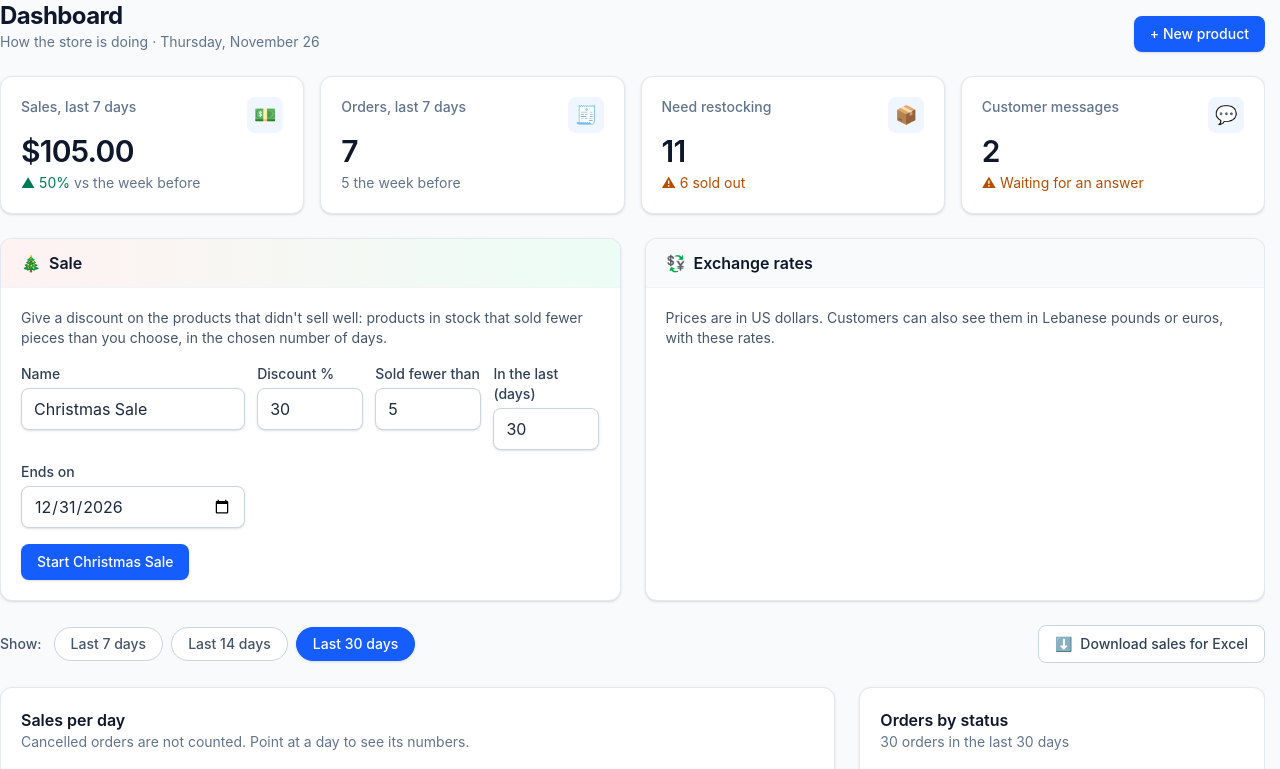
Test: choosing another period loads the numbers for those days (FR-14)
Click the button "Last 7 days" at (108, 644), box [54,627,163,661]
(page scrolled)
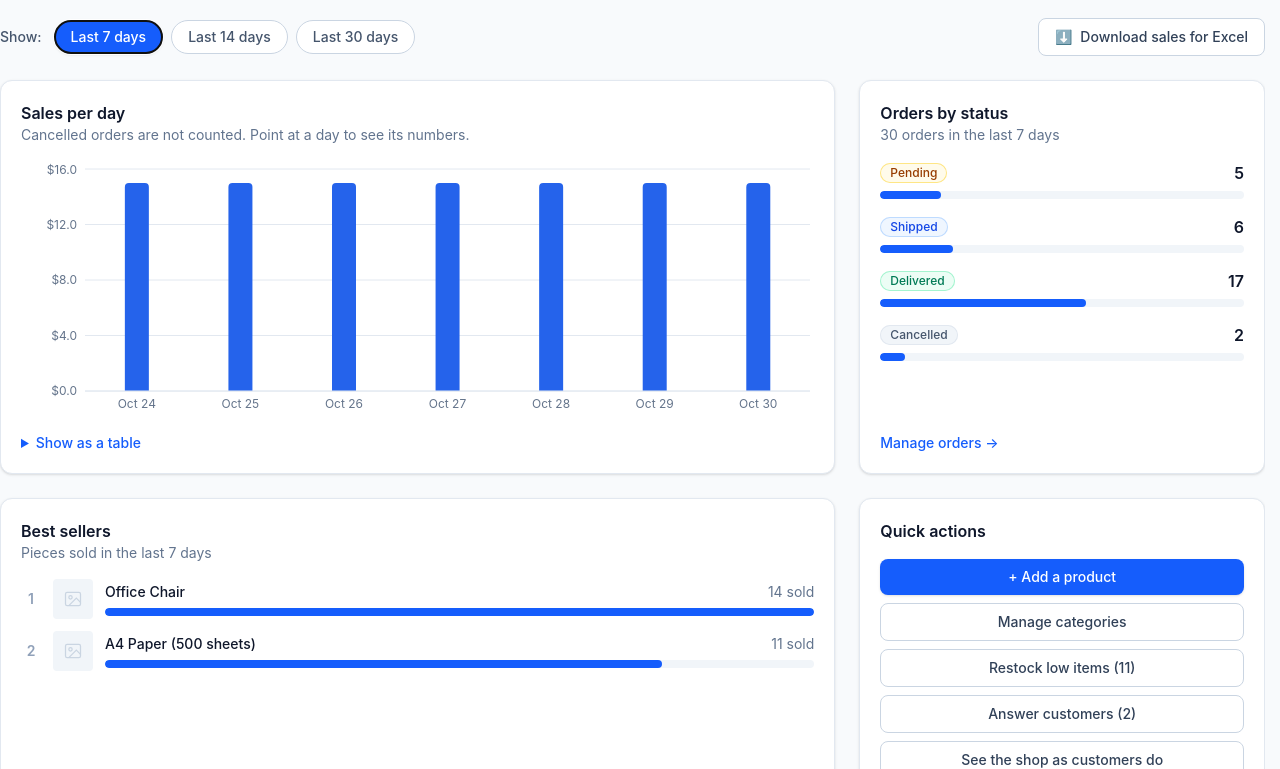
Now the text "Pieces sold in the last 7 days" is shown, box [21,544,212,561]
